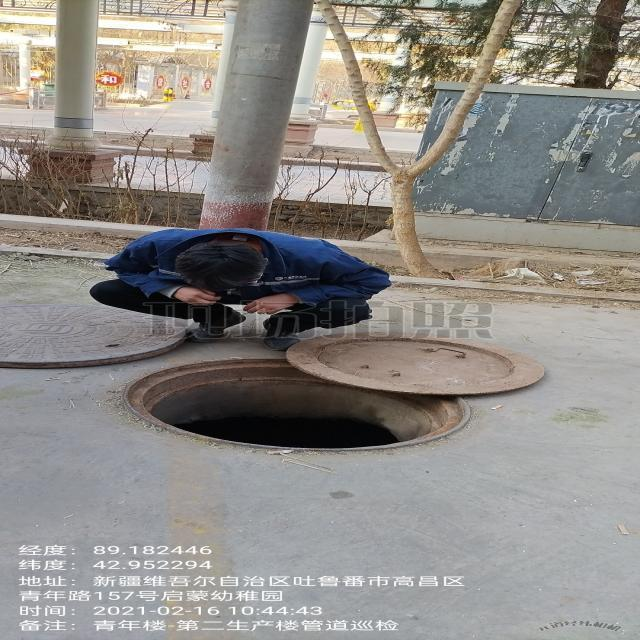manhole: (125, 333, 547, 452)
